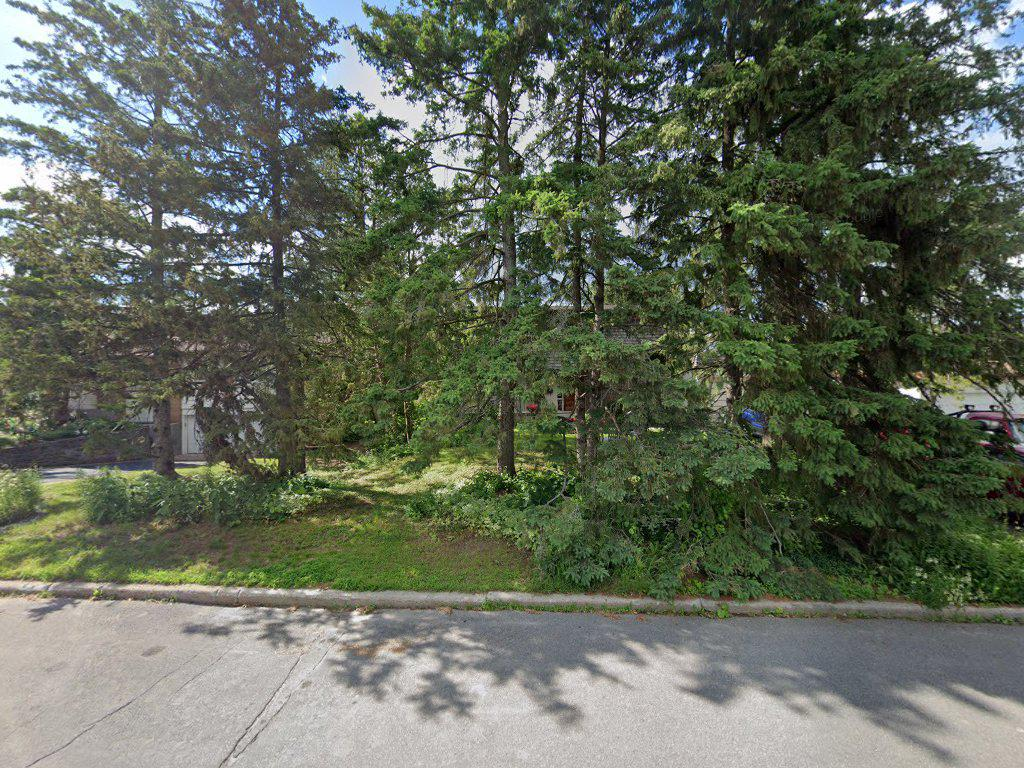trunk: (497, 378, 520, 499), (151, 399, 180, 488)
